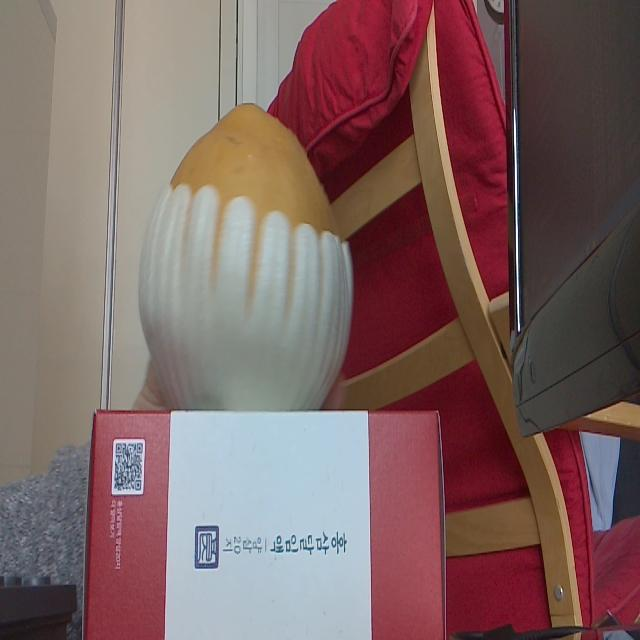pear: (138, 101, 351, 412)
